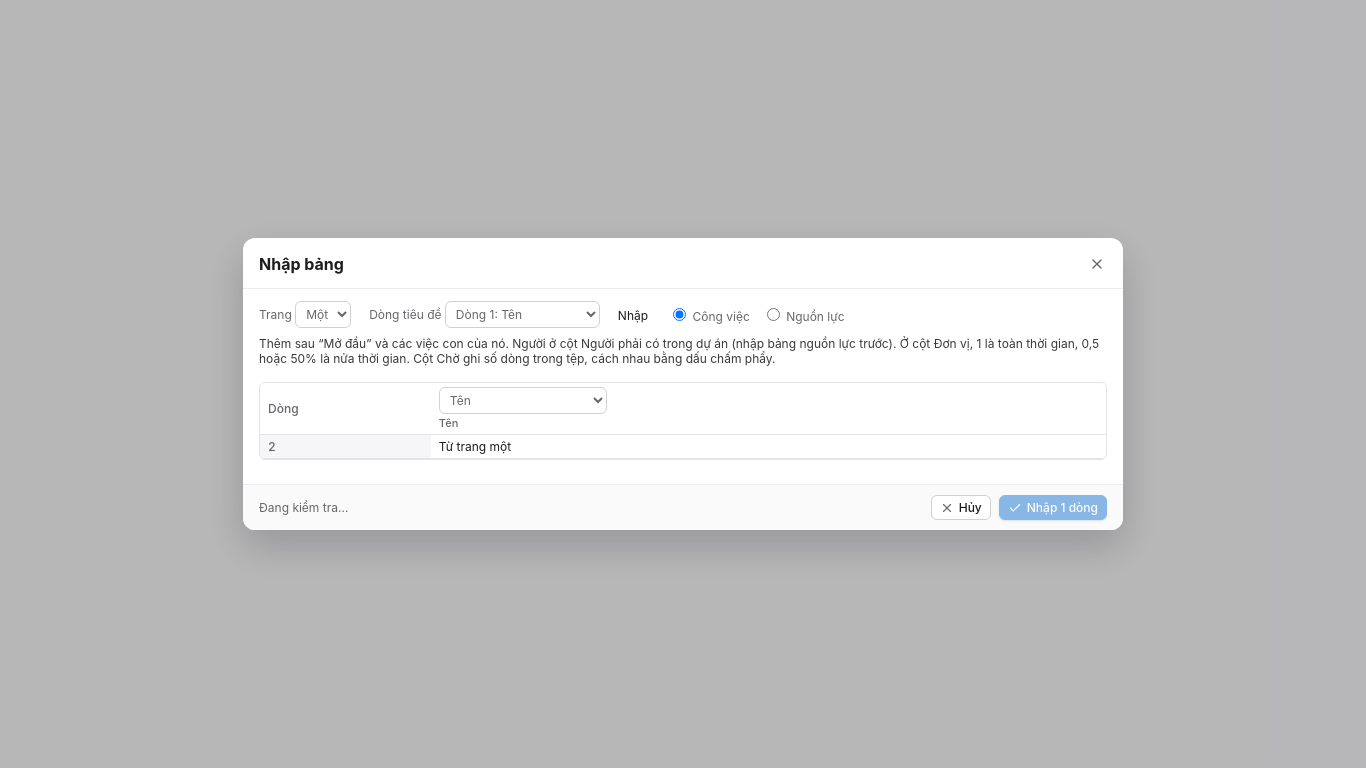
it: ImportDialog › reads another sheet of a workbook
Select "Hai" in the dropdown labelled "Trang" at (323, 314), box 295,301 -> 351,328
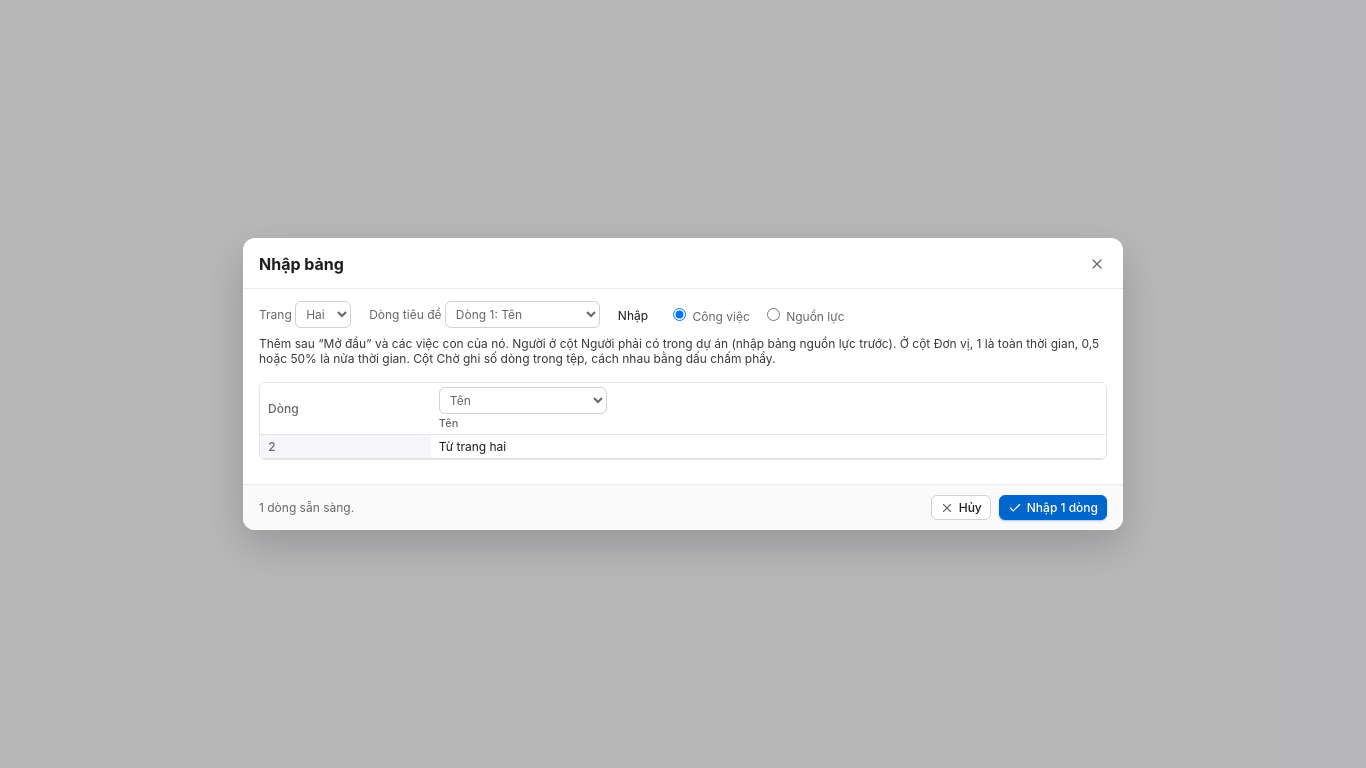
Expected: the cell "Từ trang hai" is shown, 431,434 -> 1106,458
